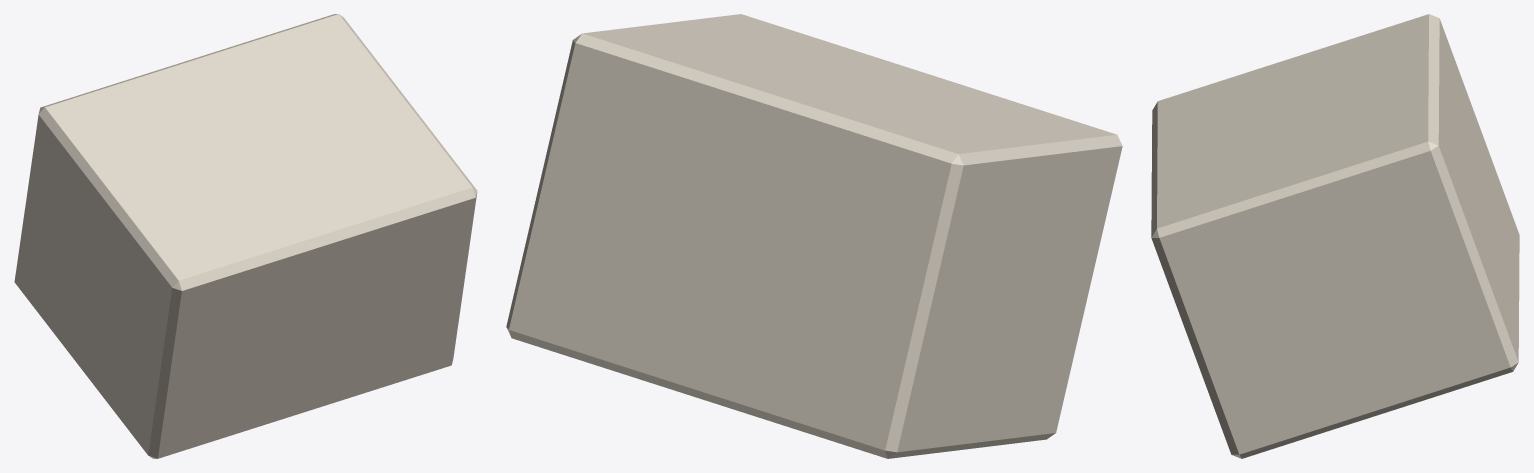
The model's file is Muzzle.glb.
3 views of the same model, side by side, from view 1: azimuth 30°, elevation 25°; view 2: azimuth 150°, elevation 25°; view 3: azimuth 270°, elevation 25° (orthographic). The views are drawn at different scales.
Visible parts, largest first — view 1: Muzzle; view 2: Muzzle; view 3: Muzzle.
Boxes of the visible parts, <box> form: Muzzle: <box>14,14,477,458</box>; Muzzle: <box>506,14,1122,458</box>; Muzzle: <box>1151,14,1519,458</box>.
Bounding box in the file's own units: 0.1917 × 0.1776 × 0.1793.
